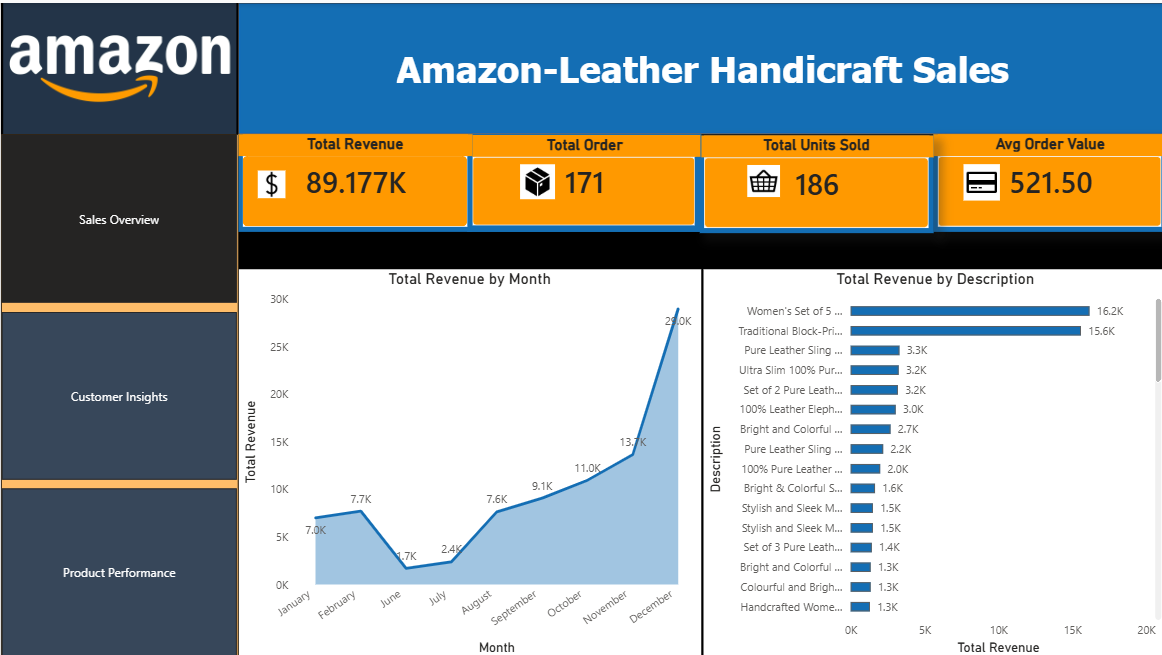

The dashboard page shown, as its layout file describes it:
{"tool":"powerbi","page":{"name":"Sales Overview","canvas":[1280,720],"ordinal":0},"visuals":[{"type":"shape","box":[260.7,0,1019.6,144.1],"z":0},{"type":"image","box":[0,0,260.7,144.1],"z":1000},{"type":"lineChart","fields":{"Category":["Sheet1.Order Date.Variation.Date Hierarchy.Month"],"Y":["Sheet1.Total Revenue"]},"box":[260.7,292.3,507.7,428.1],"z":2000},{"type":"clusteredBarChart","fields":{"Category":["Sheet1.Description"],"Y":["Sheet1.Total Revenue"]},"box":[771.2,292.3,509.1,428.1],"z":3000},{"type":"pageNavigator","box":[0,144.1,260.7,576.3],"z":4000},{"type":"cardVisual","title":"Avg Order Value","fields":{"Data":["Sheet1.Average Order Value"]},"box":[1023.4,144.1,256.6,107],"z":5000},{"type":"cardVisual","title":"Total Units Sold","fields":{"Data":["Sheet1.Total Units sold"]},"box":[767.1,145.5,256.6,107],"z":6000},{"type":"cardVisual","title":"Total Order","fields":{"Data":["Sheet1.Total order"]},"box":[511.8,144.1,256.6,107],"z":7000},{"type":"cardVisual","title":"Total Revenue","fields":{"Data":["Sheet1.Total Revenue"]},"box":[260.7,144.1,256.6,107],"z":8000},{"type":"image","box":[273.1,183.9,48,30.2],"z":9000},{"type":"image","box":[562.6,177,52.1,38.4],"z":10000},{"type":"image","box":[819.2,177,35.7,37],"z":11000},{"type":"image","box":[1056.6,172.9,39.8,48],"z":12000}]}

Visuals, with their boxes in screenshot pixels (x1, y1, x2, y2), scaled from the page's 1280x720 canvas onto the 1162x655 screenshot:
shape: left=237, top=0, right=1161, bottom=131
image: left=0, top=0, right=237, bottom=131
lineChart - Sheet1.Order Date.Variation.Date Hierarchy.Month x Sheet1.Total Revenue: left=237, top=266, right=698, bottom=654
clusteredBarChart - Sheet1.Description x Sheet1.Total Revenue: left=700, top=266, right=1161, bottom=654
pageNavigator: left=0, top=131, right=237, bottom=654
"Avg Order Value" cardVisual: left=929, top=131, right=1161, bottom=228
"Total Units Sold" cardVisual: left=696, top=132, right=929, bottom=230
"Total Order" cardVisual: left=465, top=131, right=698, bottom=228
"Total Revenue" cardVisual: left=237, top=131, right=470, bottom=228
image: left=248, top=167, right=291, bottom=195
image: left=511, top=161, right=558, bottom=196
image: left=744, top=161, right=776, bottom=195
image: left=959, top=157, right=995, bottom=201
